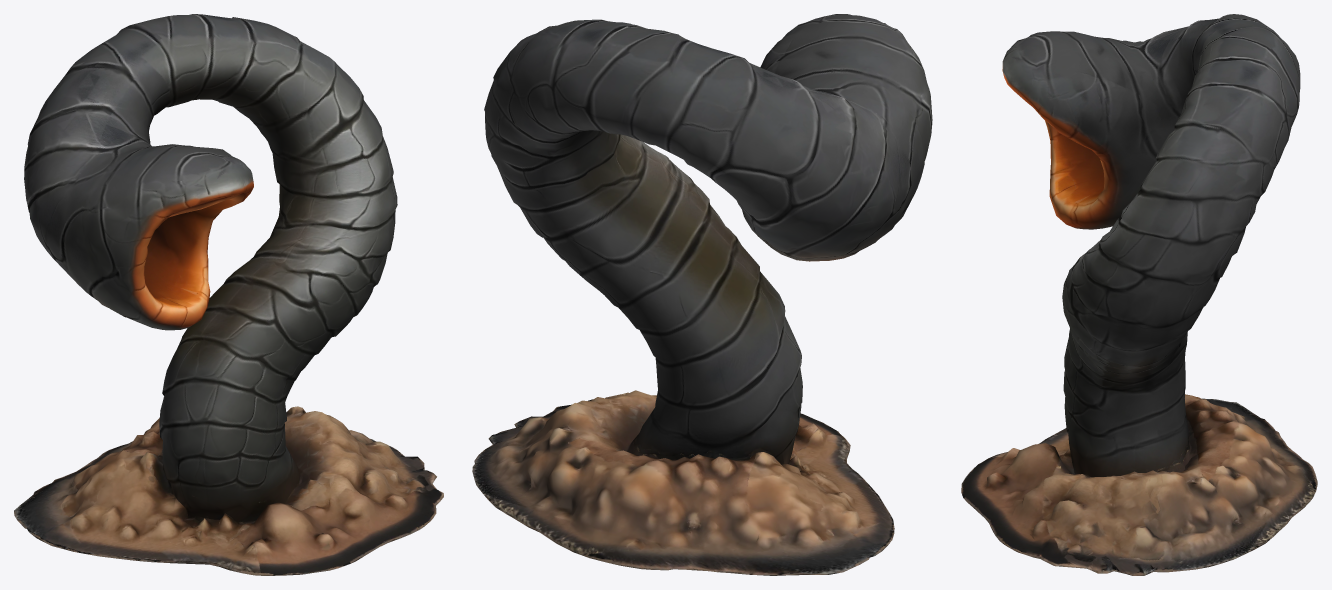
File: monster_17.glb
3 renders of one model, left to right at view 1: azimuth 30°, elevation 25°; view 2: azimuth 150°, elevation 25°; view 3: azimuth 270°, elevation 25°, orthographic. The views are drawn at different scales.
Visible parts, largest first — view 1: Death_Serpent_Emergen_0710172628_texture; view 2: Death_Serpent_Emergen_0710172628_texture; view 3: Death_Serpent_Emergen_0710172628_texture.
Part boxes in pixels (bbox=[...]): Death_Serpent_Emergen_0710172628_texture: bbox=[14, 14, 443, 575]; Death_Serpent_Emergen_0710172628_texture: bbox=[472, 14, 932, 575]; Death_Serpent_Emergen_0710172628_texture: bbox=[961, 14, 1317, 575].
Bounding box in the file's own units: 1.66 × 1.91 × 1.4.
1 material, 1 textured.
